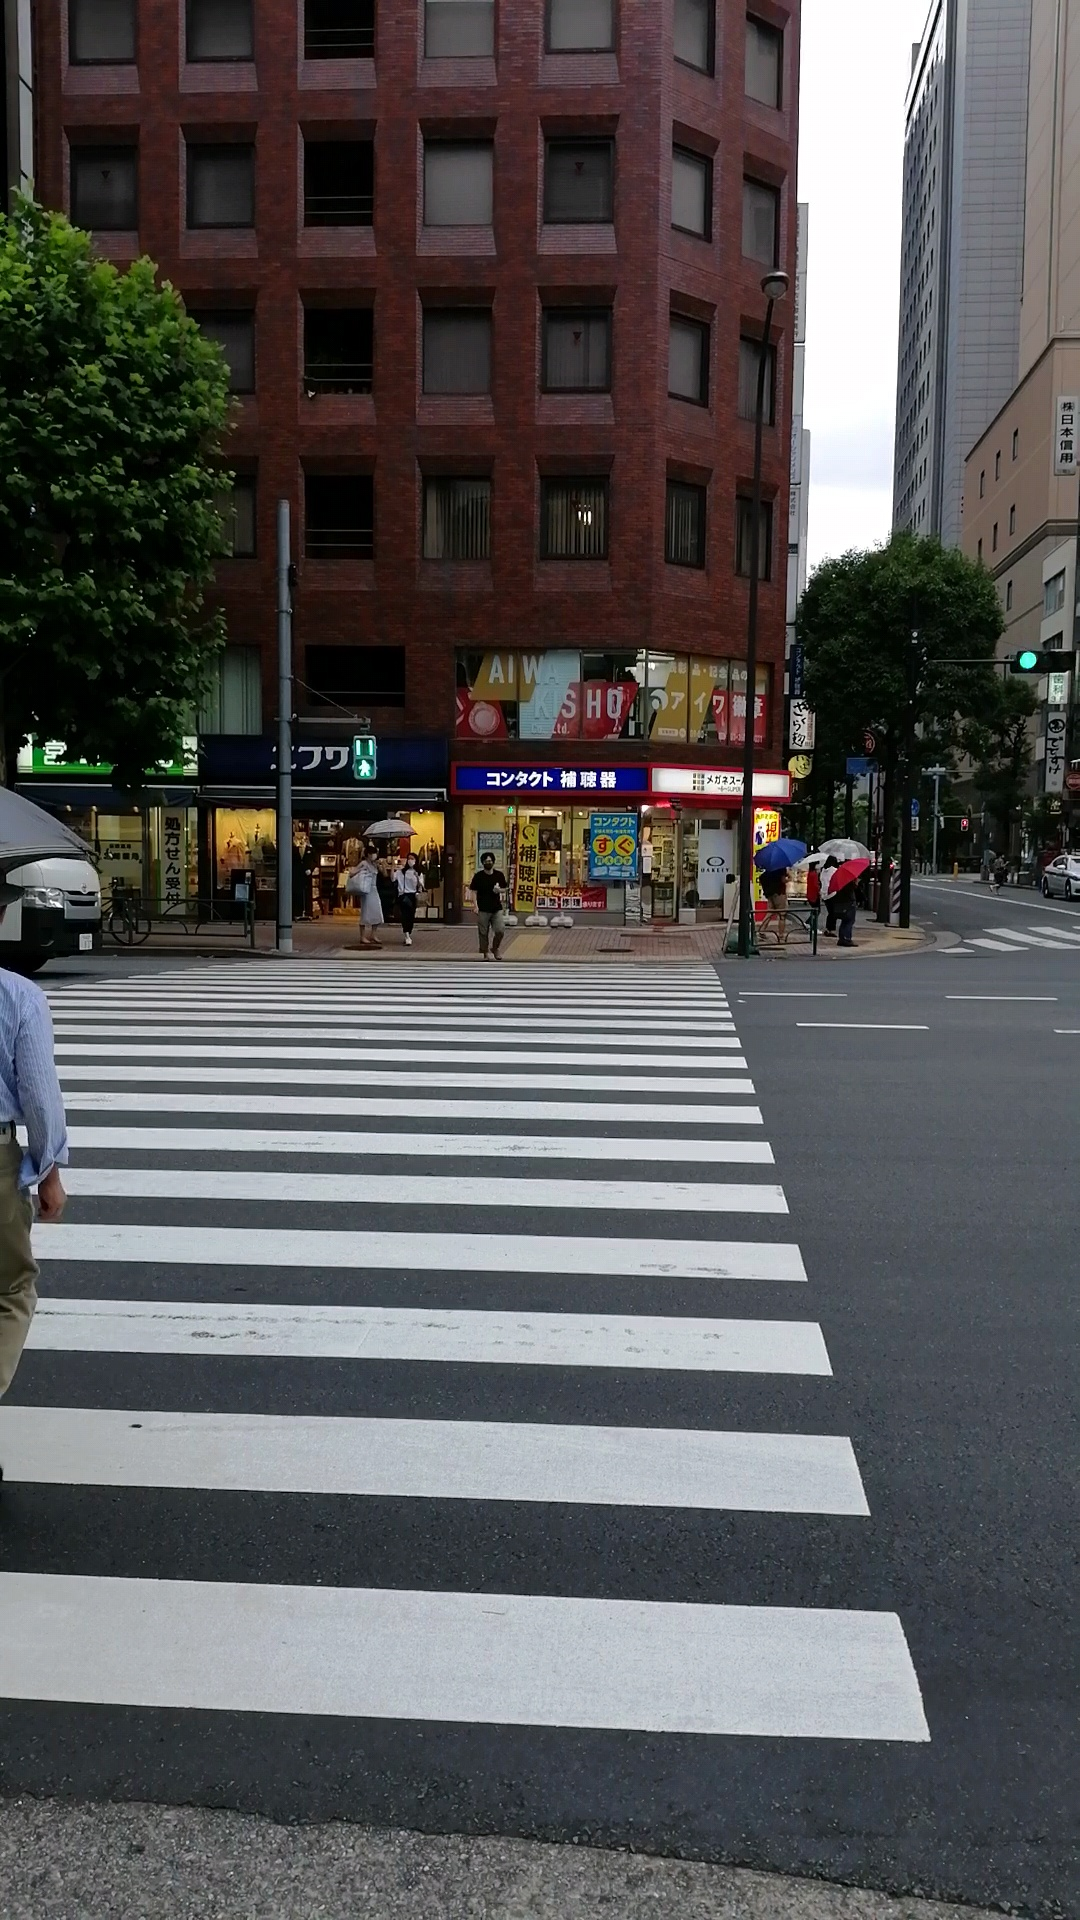green: (352, 732, 378, 779)
